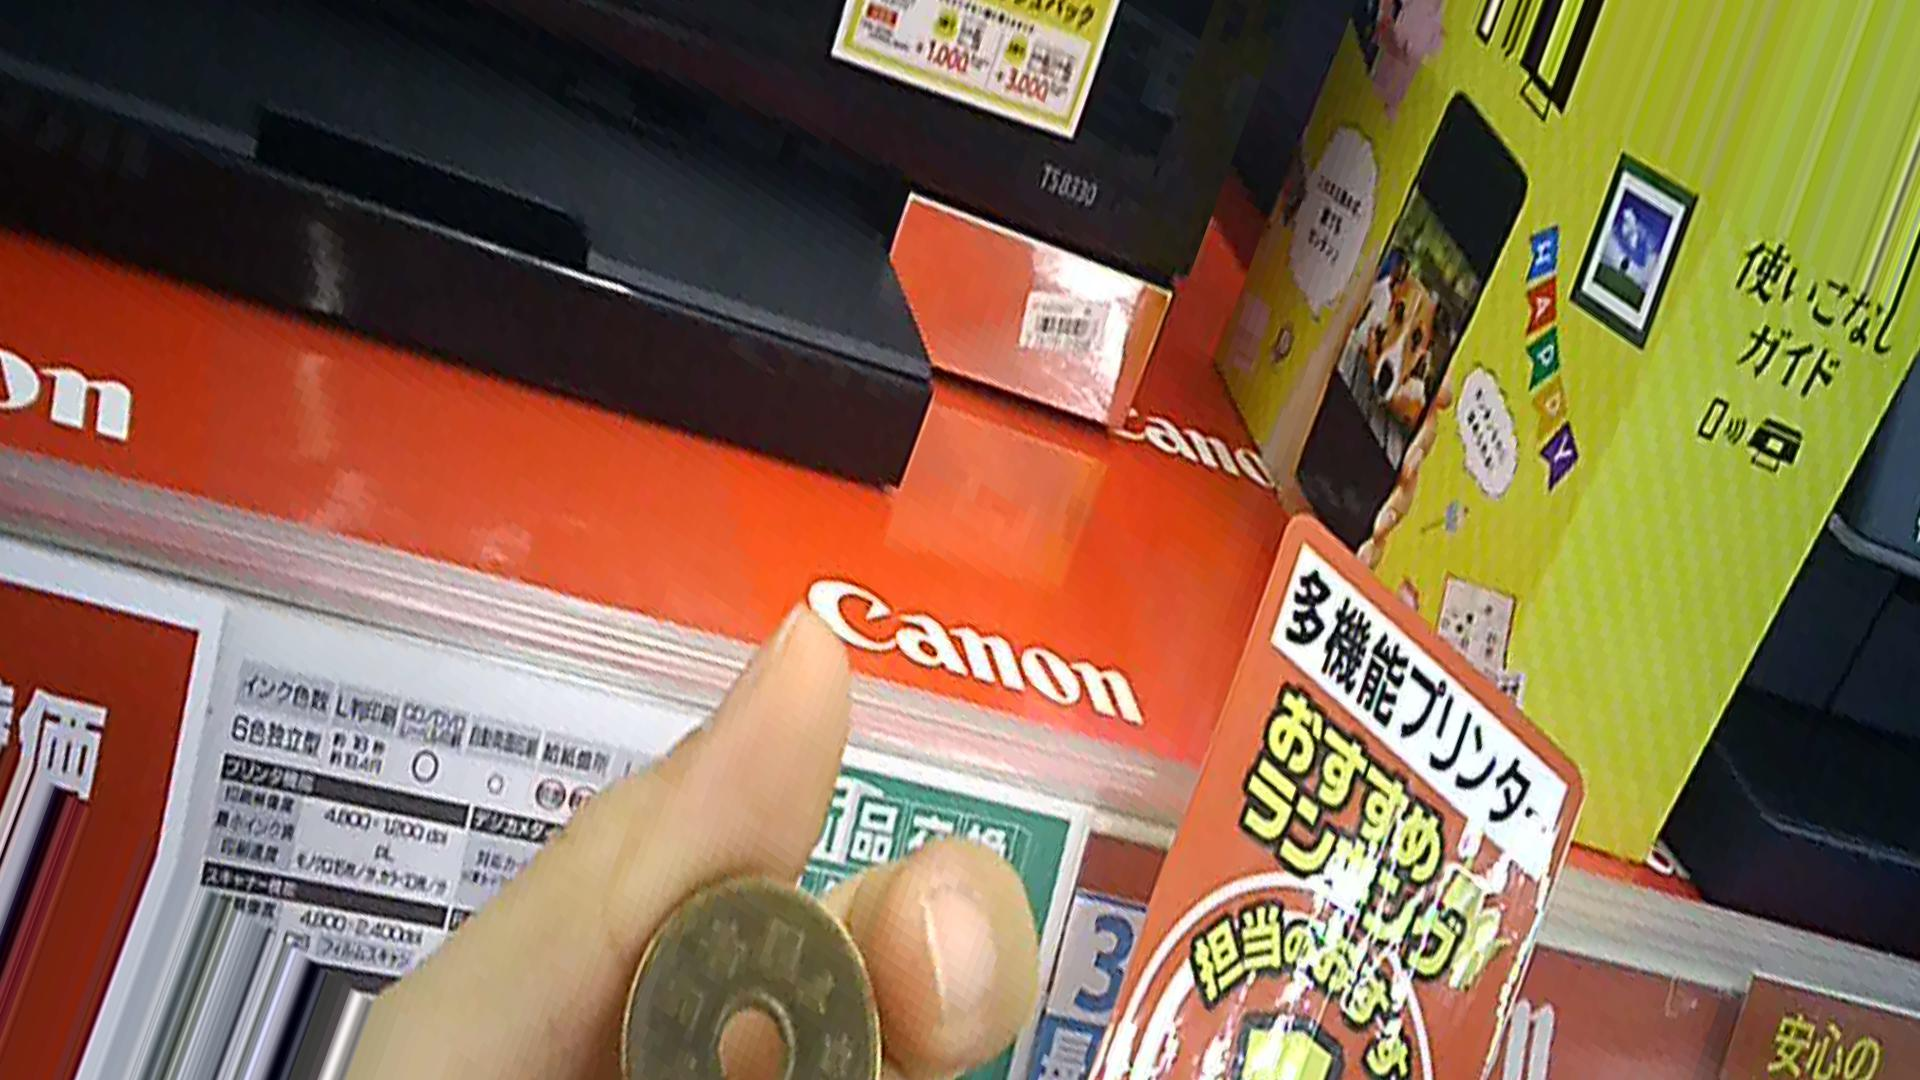5 Yen: (611, 876, 878, 1079)
